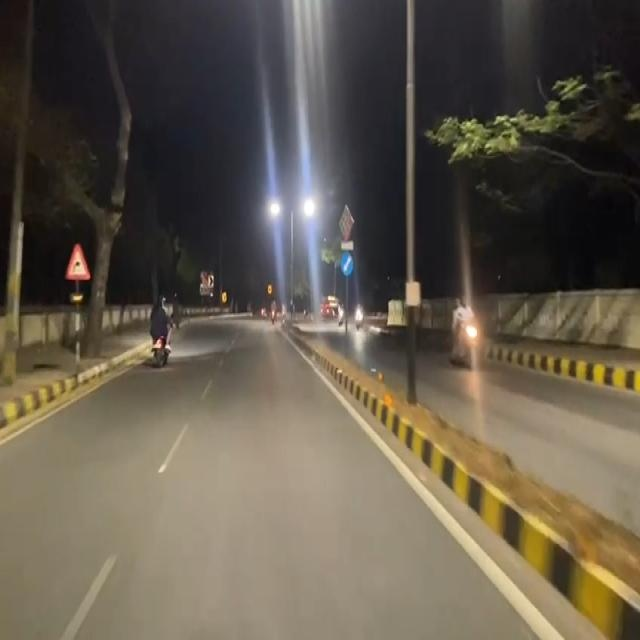bien_nguy_hiem: (64, 240, 92, 283)
